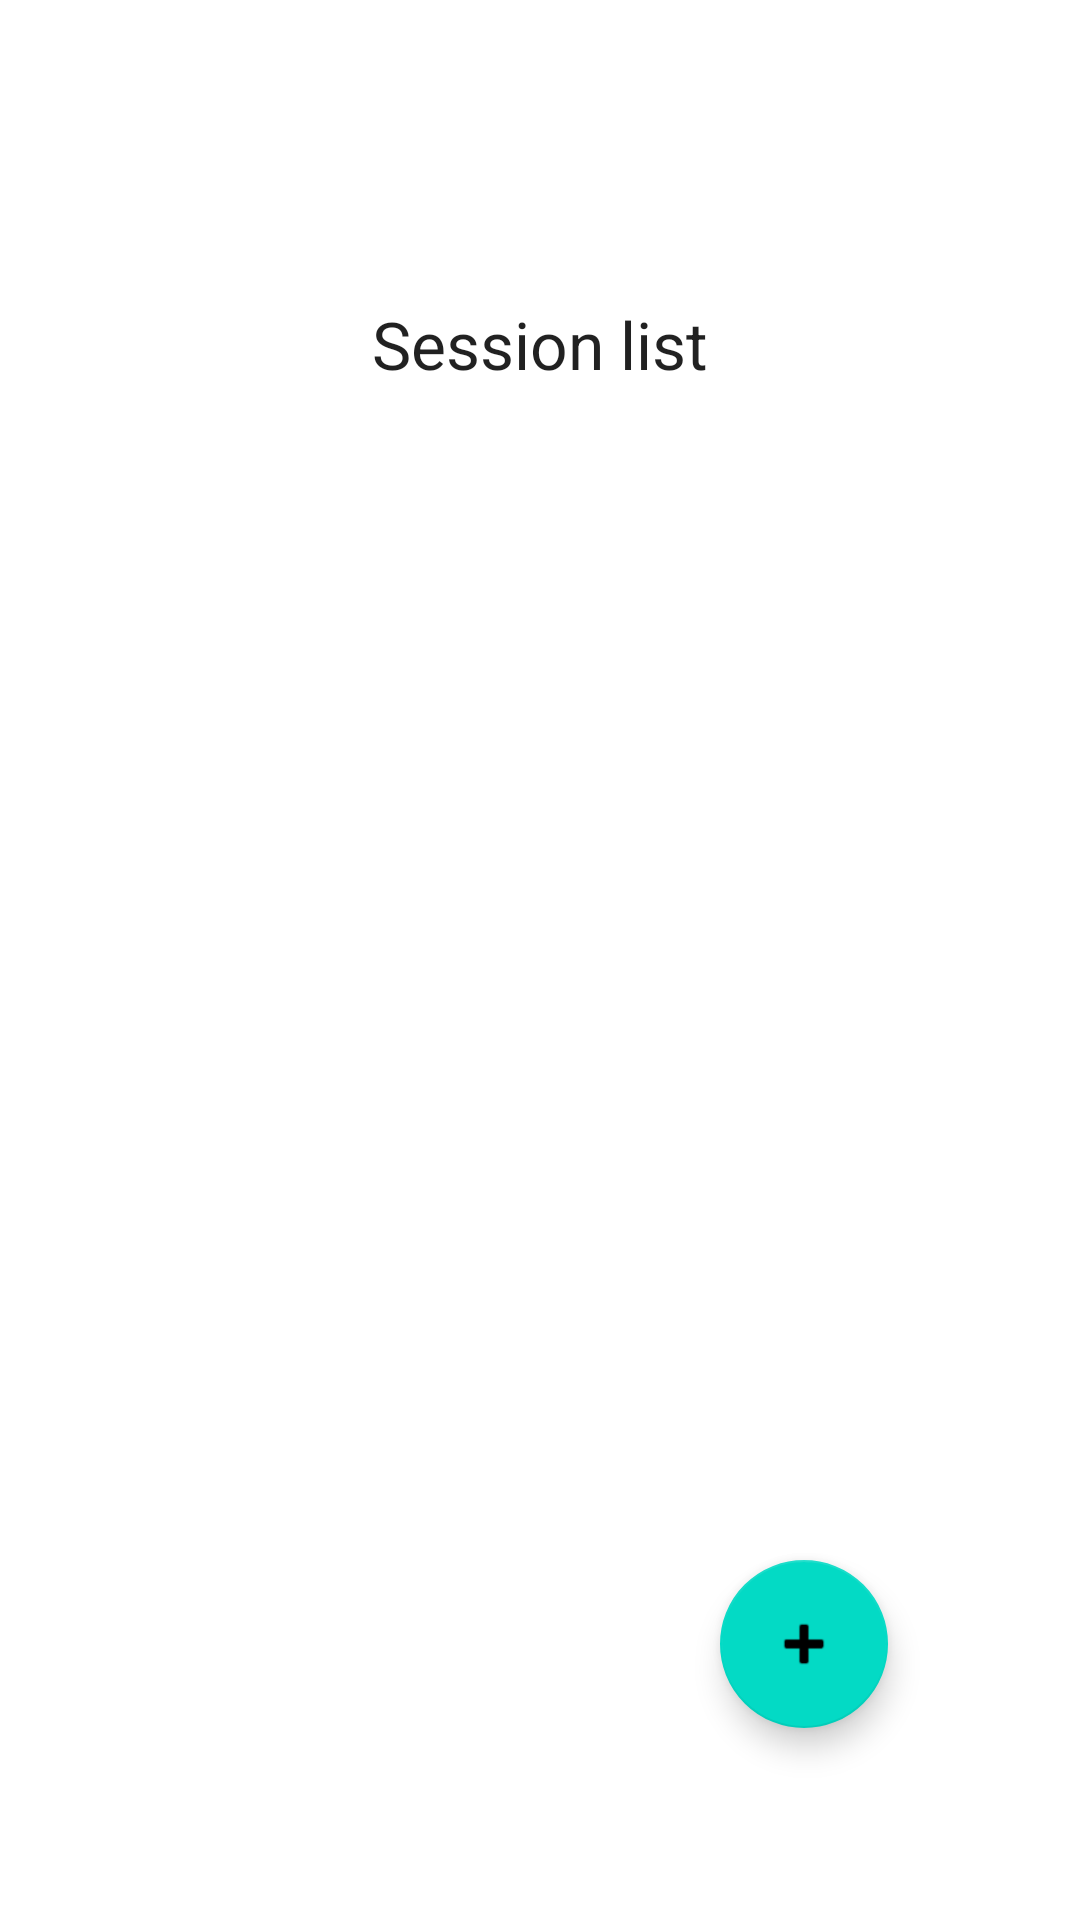

Icons on this 1080×1920 Android screen, each with its box as [left=x1, top=y1, right=x2, bottom=y2]:
add: [left=720, top=1560, right=888, bottom=1728]
